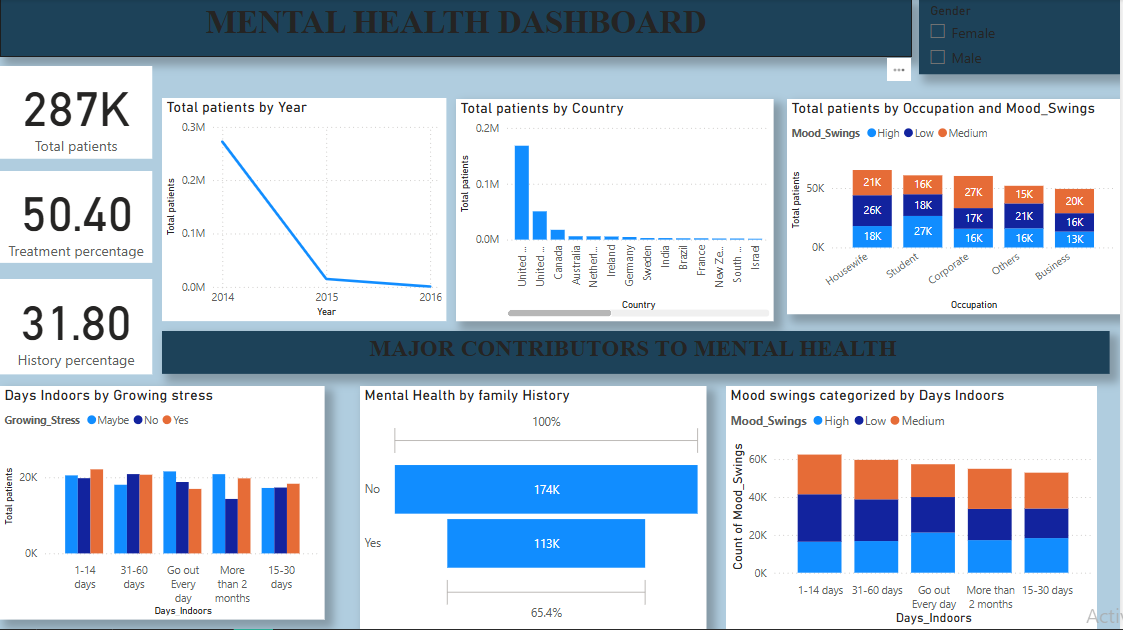

The dashboard page shown, as its layout file describes it:
{"tool":"powerbi","page":{"name":"My Dashboard","canvas":[1280,720],"ordinal":2},"visuals":[{"type":"textbox","box":[0,0,1042.3,66.3],"z":0},{"type":"card","fields":{"Values":["Mental Health Dataset.Treatment percentage"]},"box":[0,196.6,173.7,105.1],"z":1000},{"type":"card","fields":{"Values":["Mental Health Dataset.History percentage"]},"box":[0,320,173.7,108.6],"z":2000},{"type":"card","fields":{"Values":["Mental Health Dataset.Total patients"]},"box":[0,76.6,173.7,106.3],"z":3000},{"type":"clusteredColumnChart","fields":{"Category":["Mental Health Dataset.Country"],"Y":["Mental Health Dataset.Total patients"]},"box":[521.1,114.3,363.4,253.7],"z":4000},{"type":"columnChart","fields":{"Category":["Mental Health Dataset.Occupation"],"Y":["Mental Health Dataset.Total patients"],"Series":["Mental Health Dataset.Mood_Swings"]},"box":[899.4,114.3,380.6,245.7],"z":5000},{"type":"textbox","box":[0,521,173,150],"z":6000},{"type":"textbox","box":[185.1,379.4,1083.4,49.1],"z":7000},{"type":"funnel","title":"Mental Health by family History","fields":{"Category":["Mental Health Dataset.family_history"],"Y":["Mental Health Dataset.Total patients"]},"box":[411.2,442.1,395.8,277.6],"z":8000},{"type":"clusteredColumnChart","title":"Days Indoors by Growing stress","fields":{"Category":["Mental Health Dataset.Days_Indoors"],"Series":["Mental Health Dataset.Growing_Stress"],"Y":["Mental Health Dataset.Total patients"]},"box":[0,442.1,371.4,267.3],"z":9000},{"type":"slicer","fields":{"Values":["Mental Health Dataset.Gender"]},"box":[1050.3,0,229.7,85.7],"z":10000},{"type":"lineChart","fields":{"Y":["Mental Health Dataset.Total patients"],"Category":["Mental Health Dataset.Date.Variation.Date Hierarchy.Year"]},"box":[185.1,113.1,324.6,254.9],"z":11000},{"type":"columnChart","title":"Mood swings categorized by Days Indoors","fields":{"Category":["Mental Health Dataset.Days_Indoors"],"Y":["CountNonNull(Mental Health Dataset.Mood_Swings)"],"Series":["Mental Health Dataset.Mood_Swings"]},"box":[829.7,442.3,424,277.7],"z":12000}]}

Visuals, with their boxes in screenshot pixels (x1, y1, x2, y2), scaled from the page's 1280x720 canvas onto the 1123x630 screenshot:
textbox: bbox=(0, 0, 914, 58)
card - Mental Health Dataset.Treatment percentage: bbox=(0, 172, 152, 264)
card - Mental Health Dataset.History percentage: bbox=(0, 280, 152, 375)
card - Mental Health Dataset.Total patients: bbox=(0, 67, 152, 160)
clusteredColumnChart - Mental Health Dataset.Country x Mental Health Dataset.Total patients: bbox=(457, 100, 776, 322)
columnChart - Mental Health Dataset.Occupation x Mental Health Dataset.Total patients: bbox=(789, 100, 1122, 315)
textbox: bbox=(0, 456, 152, 587)
textbox: bbox=(162, 332, 1113, 375)
"Mental Health by family History" funnel: bbox=(361, 387, 708, 629)
"Days Indoors by Growing stress" clusteredColumnChart: bbox=(0, 387, 326, 621)
slicer - Mental Health Dataset.Gender: bbox=(921, 0, 1122, 75)
lineChart - Mental Health Dataset.Total patients x Mental Health Dataset.Date.Variation.Date Hierarchy.Year: bbox=(162, 99, 447, 322)
"Mood swings categorized by Days Indoors" columnChart: bbox=(728, 387, 1100, 629)
